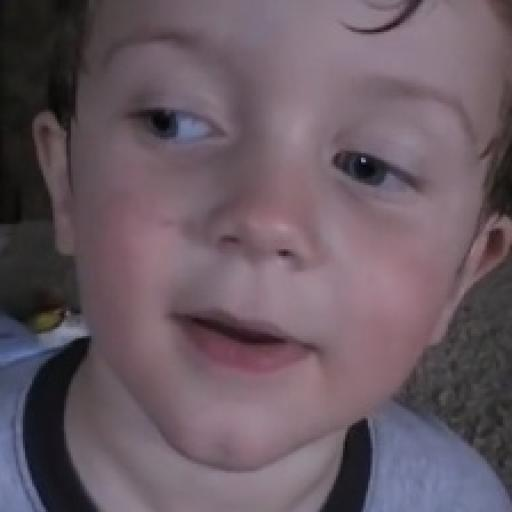Autism: (40, 1, 509, 478)
